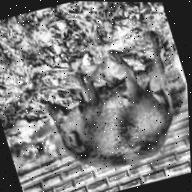boar: (29, 29, 192, 184)
